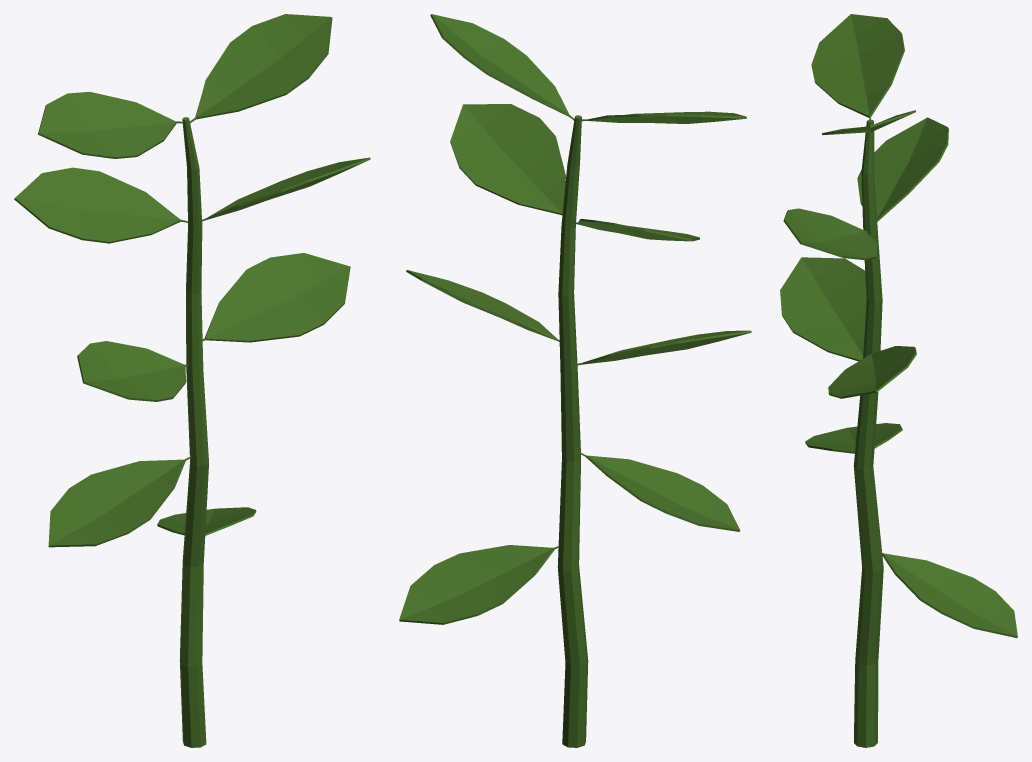
The model's file is Herb.fbx.
3 renders of one model, left to right at view 1: azimuth 30°, elevation 25°; view 2: azimuth 150°, elevation 25°; view 3: azimuth 270°, elevation 25°, orthographic.
Visible parts, largest first — view 1: Herb; view 2: Herb; view 3: Herb.
Boxes of the visible parts, left/top/right/bottom form: Herb: left=14, top=14, right=370, bottom=747; Herb: left=399, top=14, right=751, bottom=747; Herb: left=780, top=14, right=1017, bottom=747.
Bounding box in the file's own units: 0.5138 × 1.04 × 0.328.
